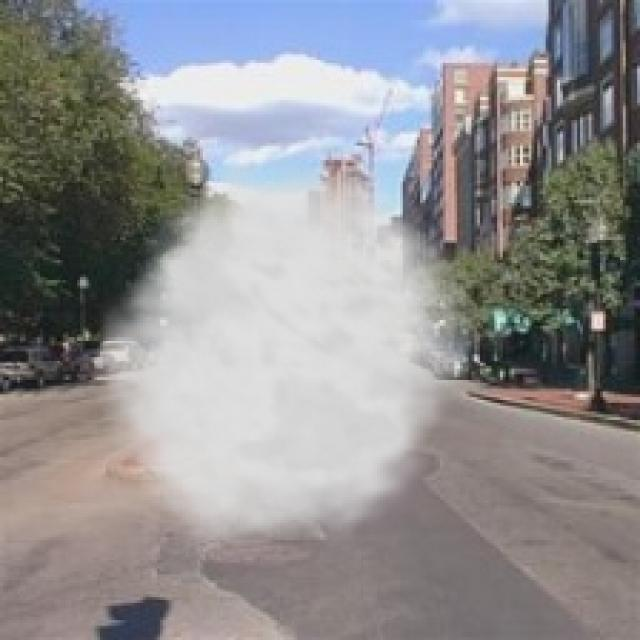Smoke: (82, 151, 492, 563)
